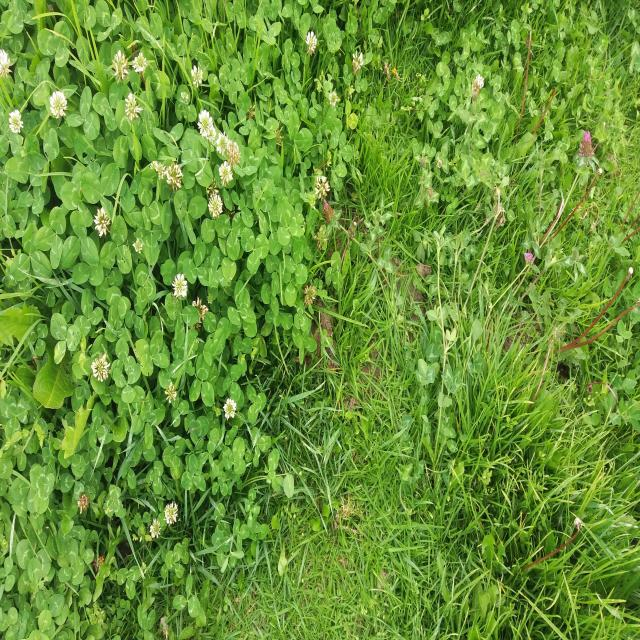Four Leaf Clover: (133, 329, 169, 377)
